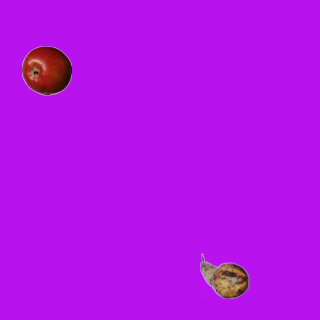Apple Braeburn: (21, 45, 71, 95)
Pear Abate: (199, 251, 249, 301)
